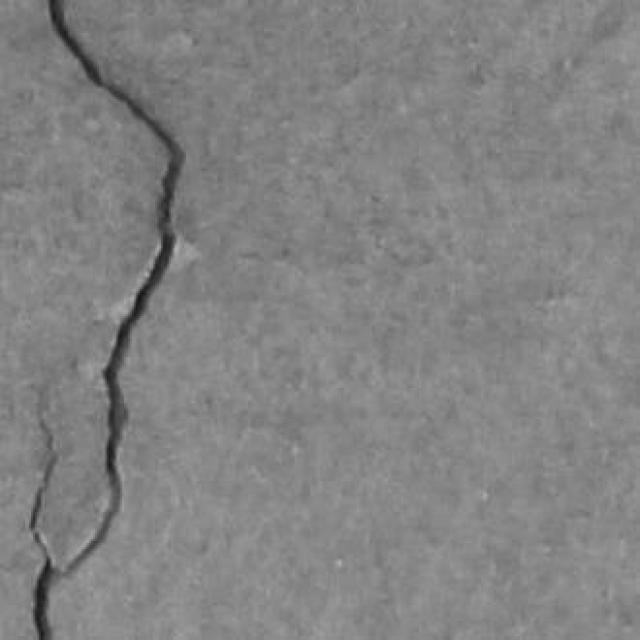crack: (30, 0, 184, 639), (30, 416, 58, 639)
